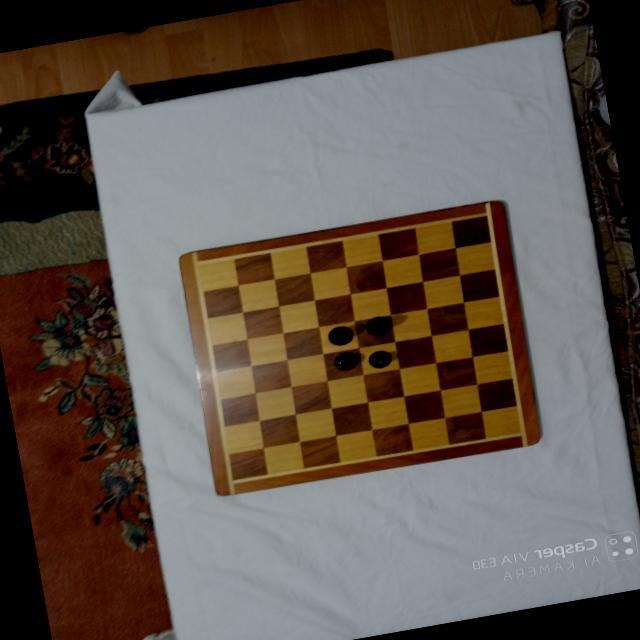black-bishop: (326, 323, 354, 346), (364, 313, 392, 335)
black-pawn: (366, 347, 393, 369), (333, 349, 359, 371)
